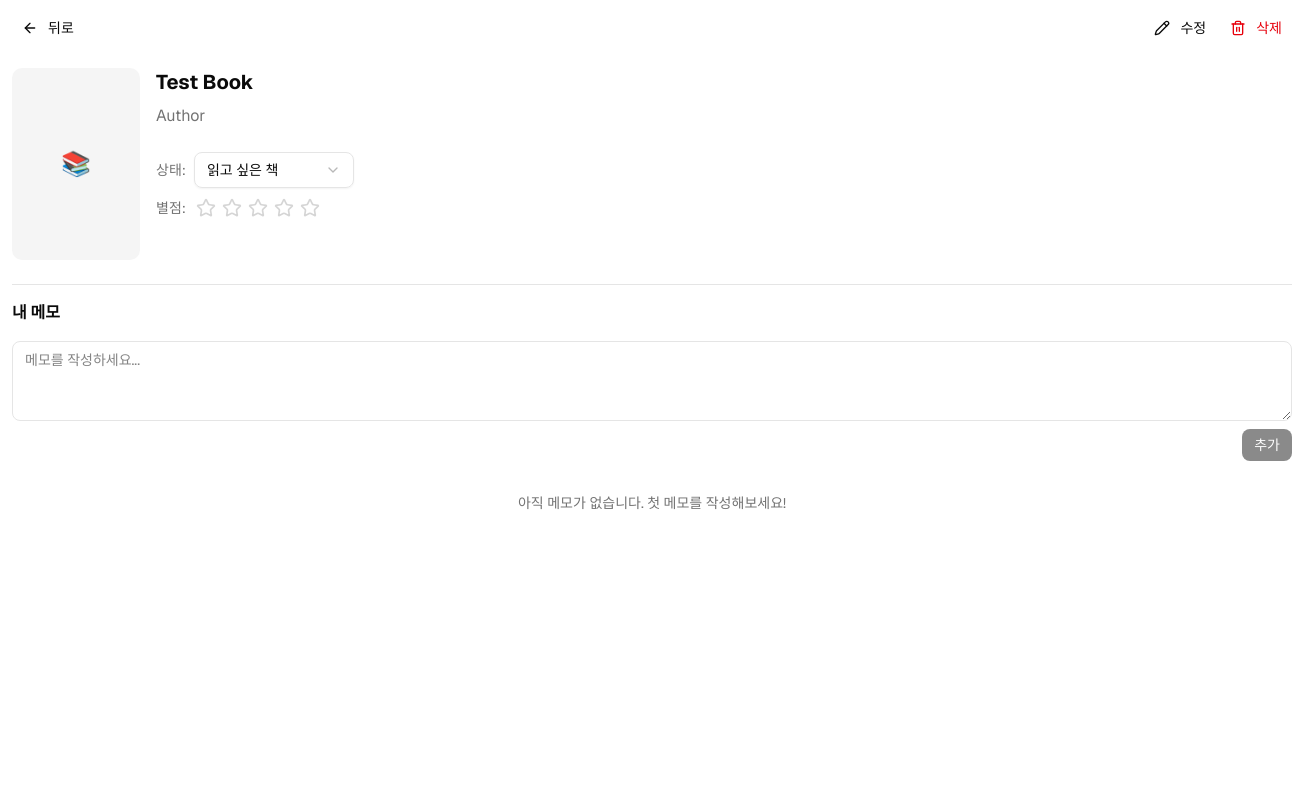
Scenario: BookDetail - edit mode (T-10.15) › returns to view mode when cancel clicked in edit form
Click the button "수정" at (1180, 28), box [1144,12,1216,44]
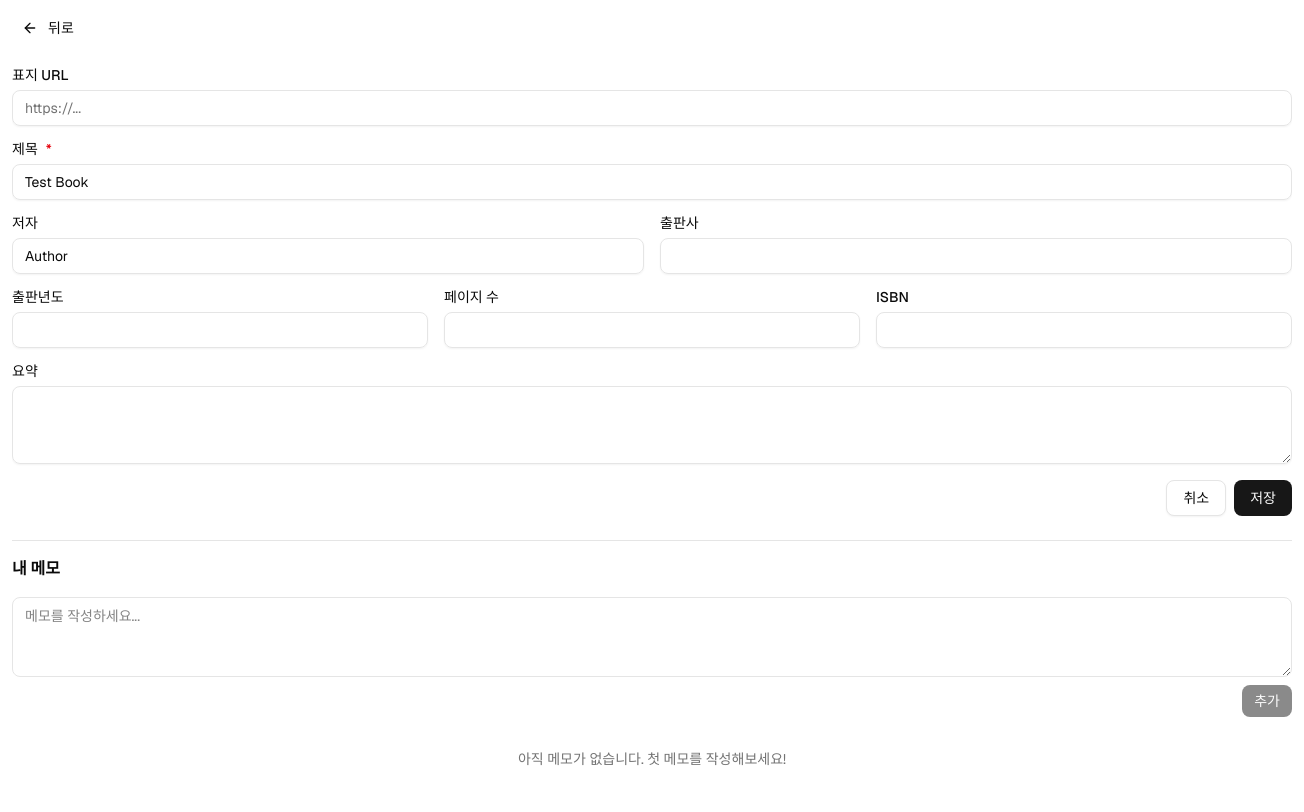
Click the button "취소" at (1196, 498), box [1166,480,1226,516]
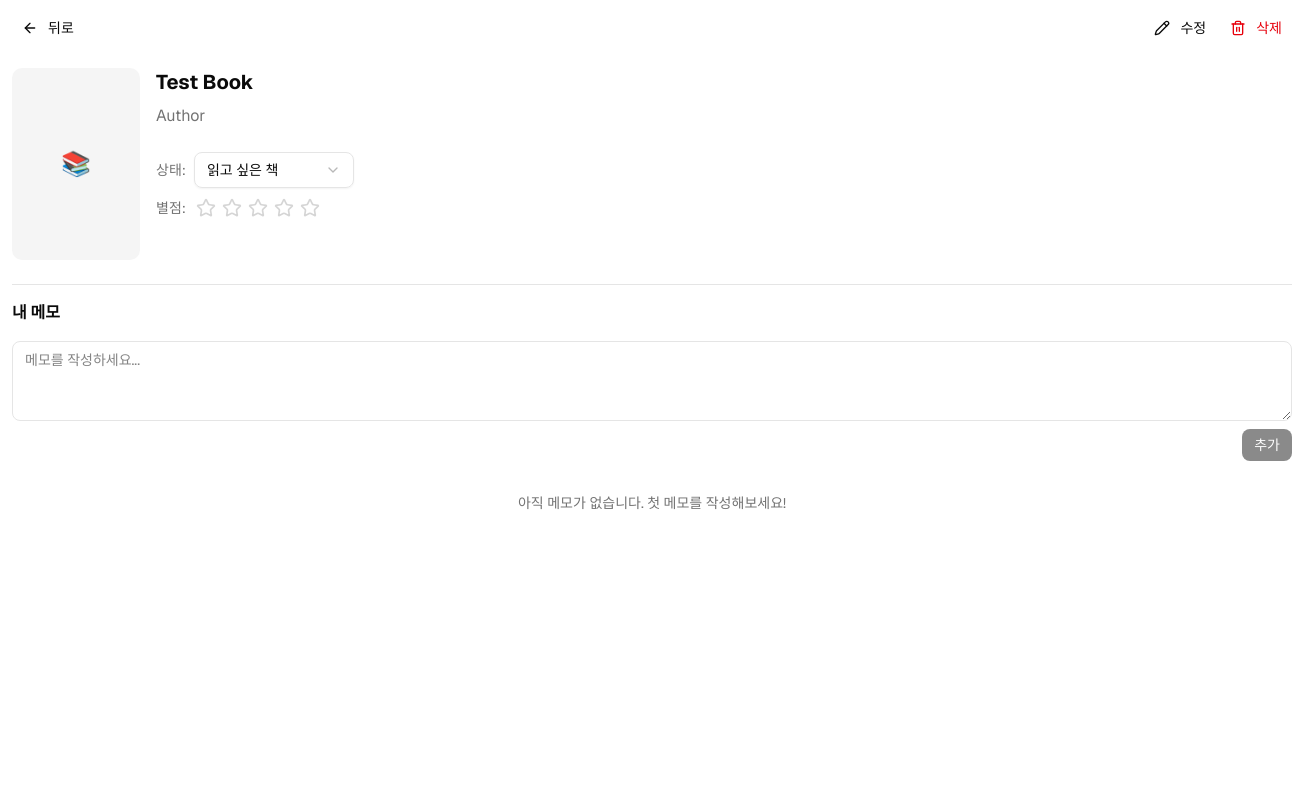
Check: the button "수정" is shown, box [1144,12,1216,44]
Check: the button "저장" is gone
